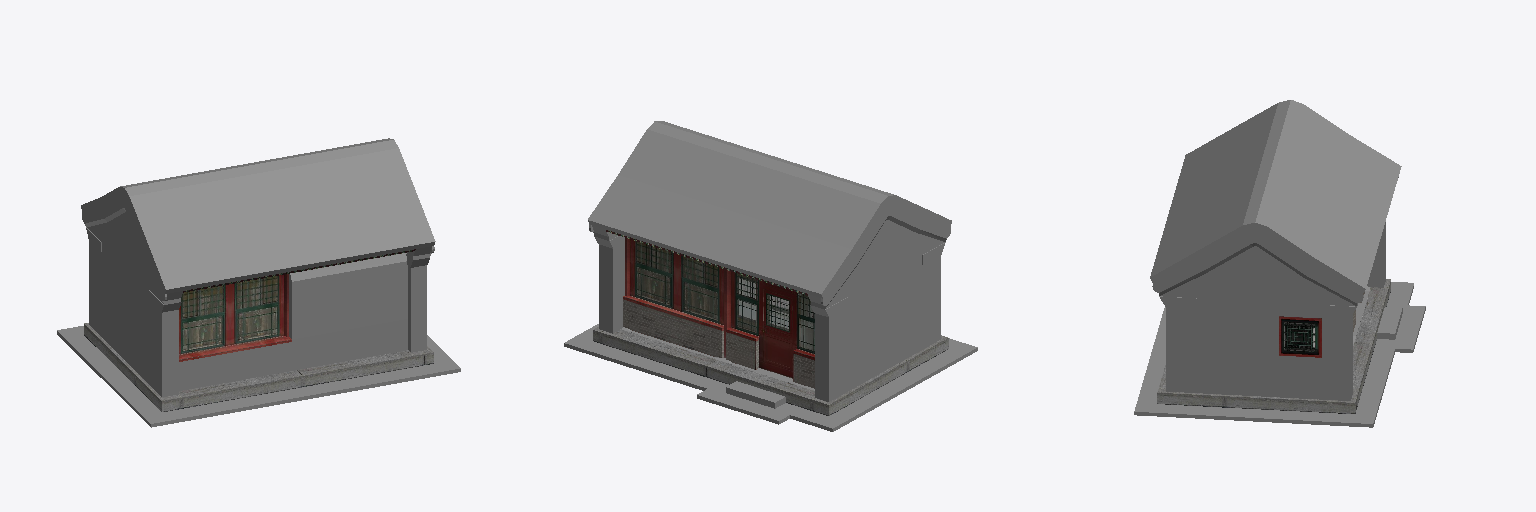
The picture shows the model from 3 angles: view 1: azimuth 30°, elevation 25°; view 2: azimuth 150°, elevation 25°; view 3: azimuth 270°, elevation 25°; orthographic projection.
Parts seen in each view (by area): view 1: polySurface309; view 2: polySurface309; view 3: polySurface309.
Part boxes in pixels (bbox=[...]): polySurface309: bbox=[57, 138, 460, 427]; polySurface309: bbox=[564, 121, 977, 431]; polySurface309: bbox=[1134, 100, 1425, 427].
Bounding box in the file's own units: 7.36 × 4.24 × 5.9.
Materials: 11 (5 with a texture image).